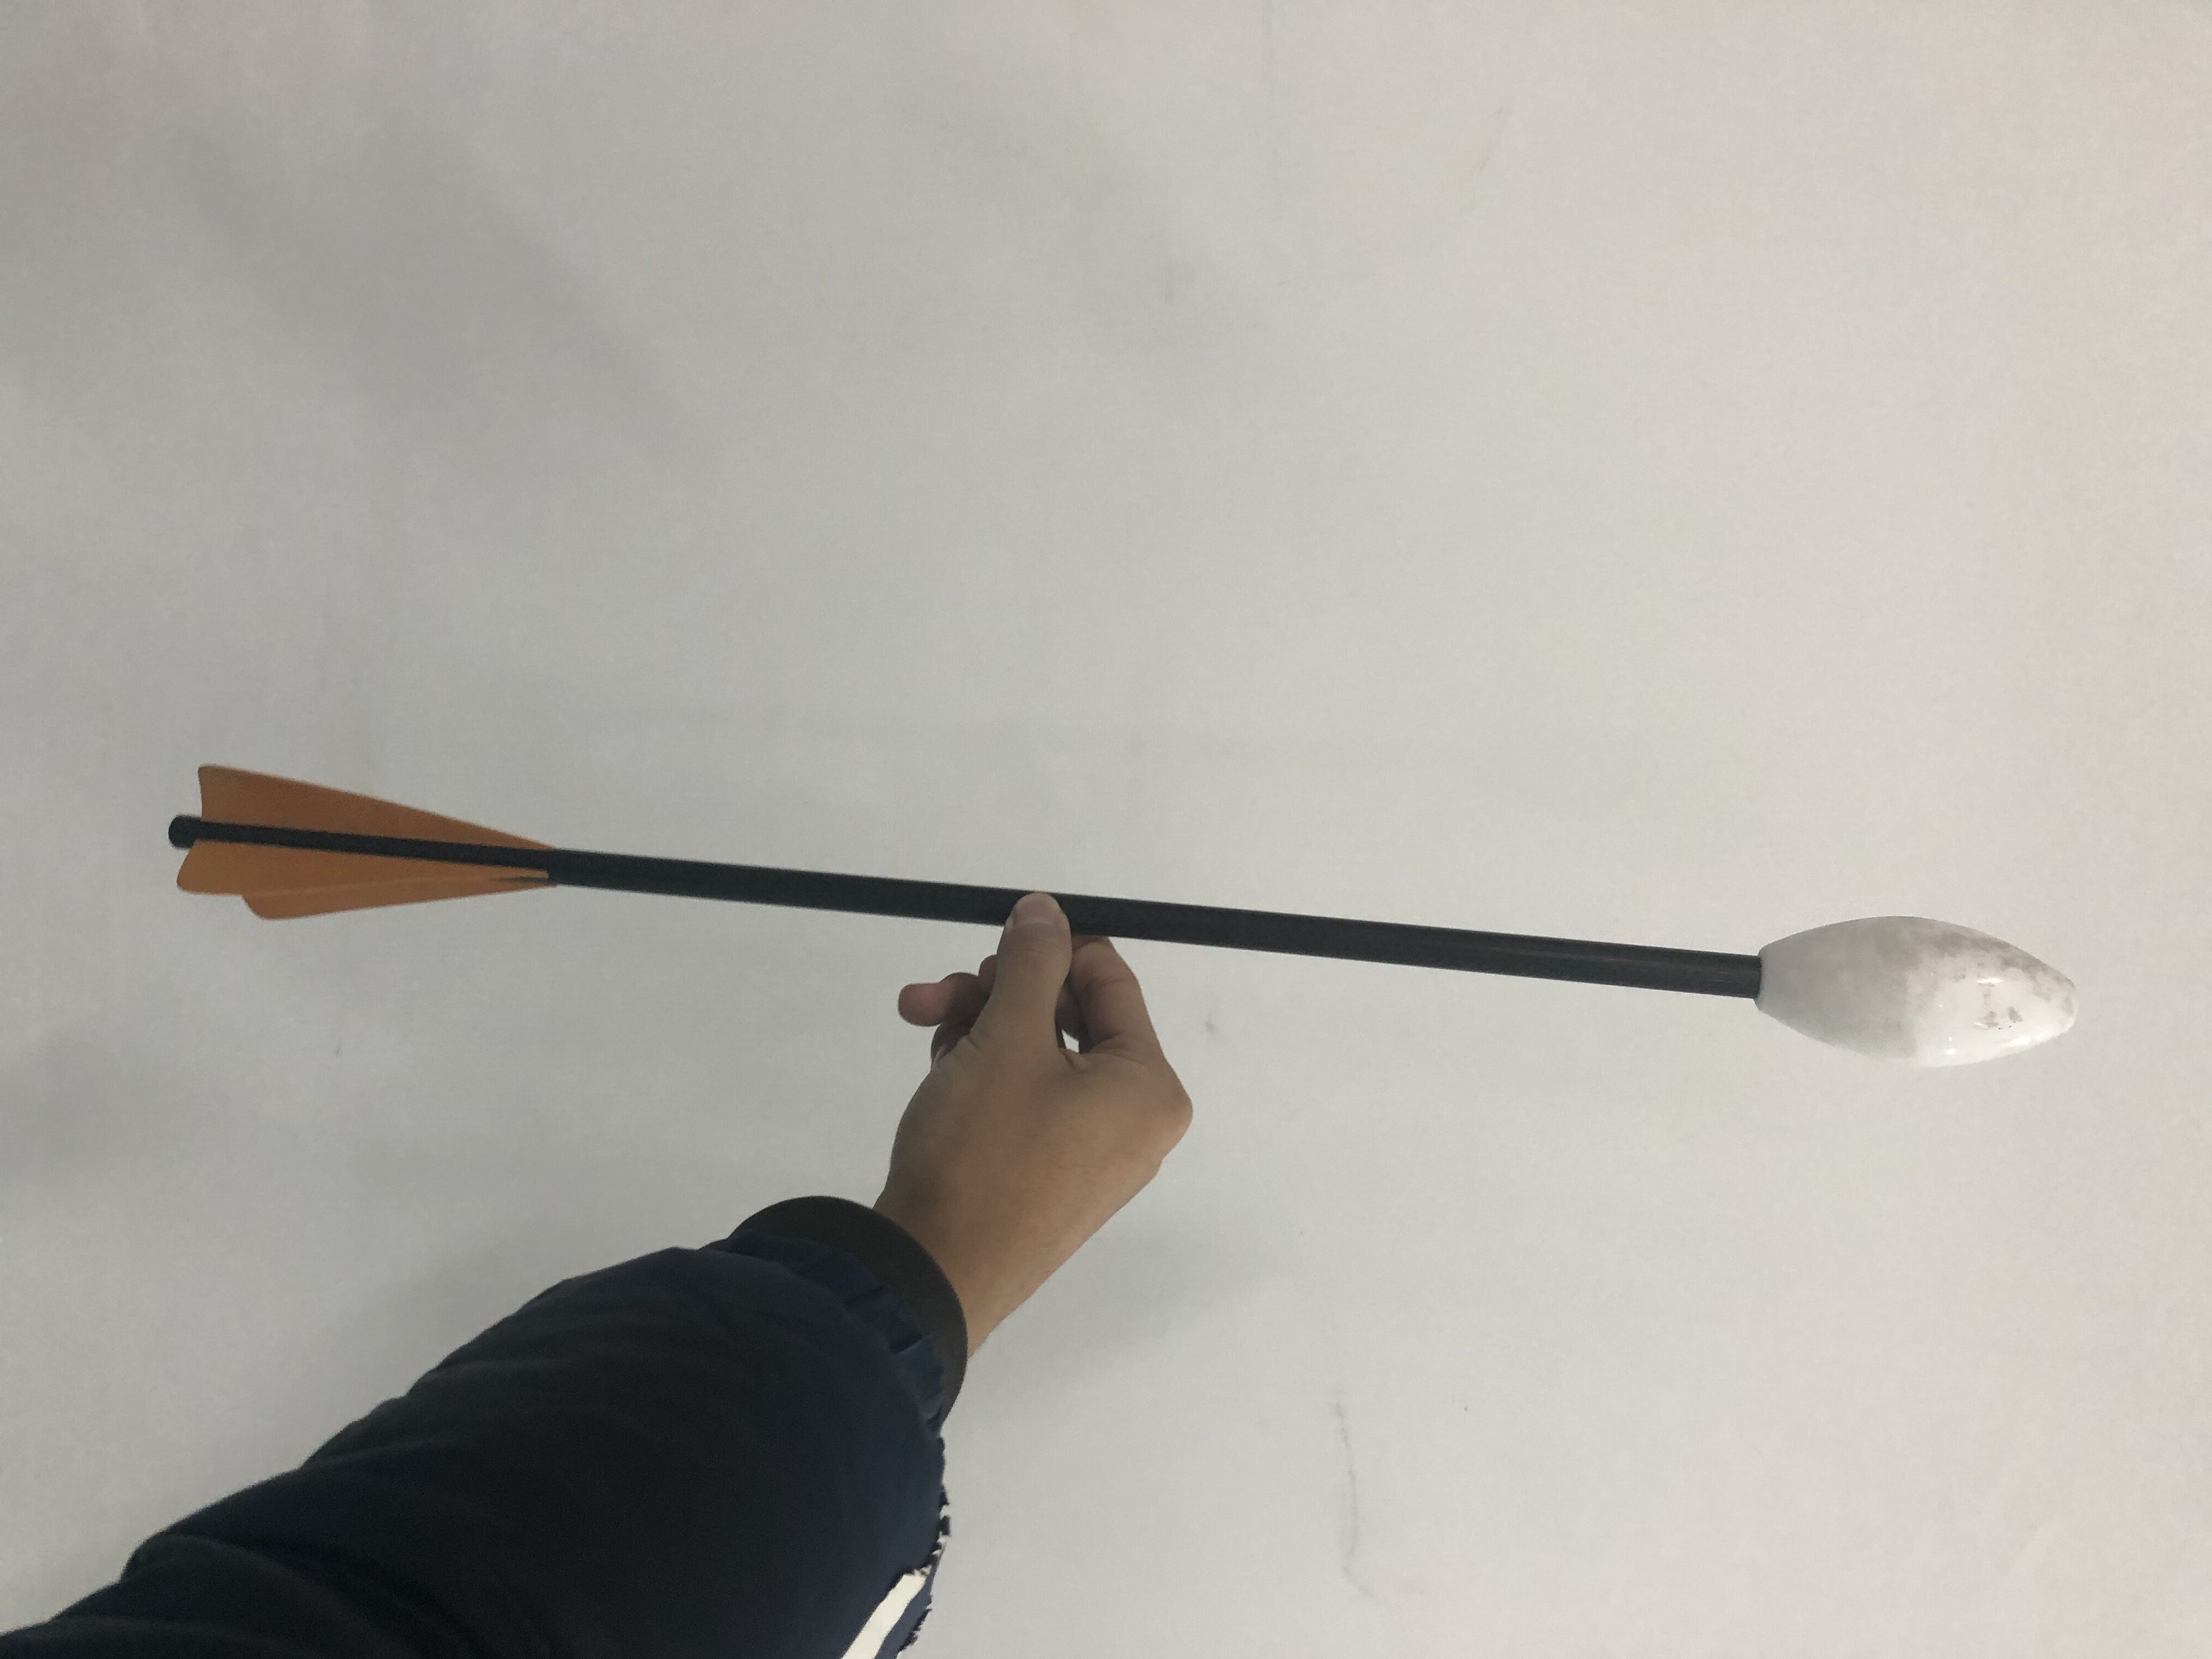arrow: (160, 756, 2087, 1079)
arrowFront: (1750, 911, 2085, 1073)
